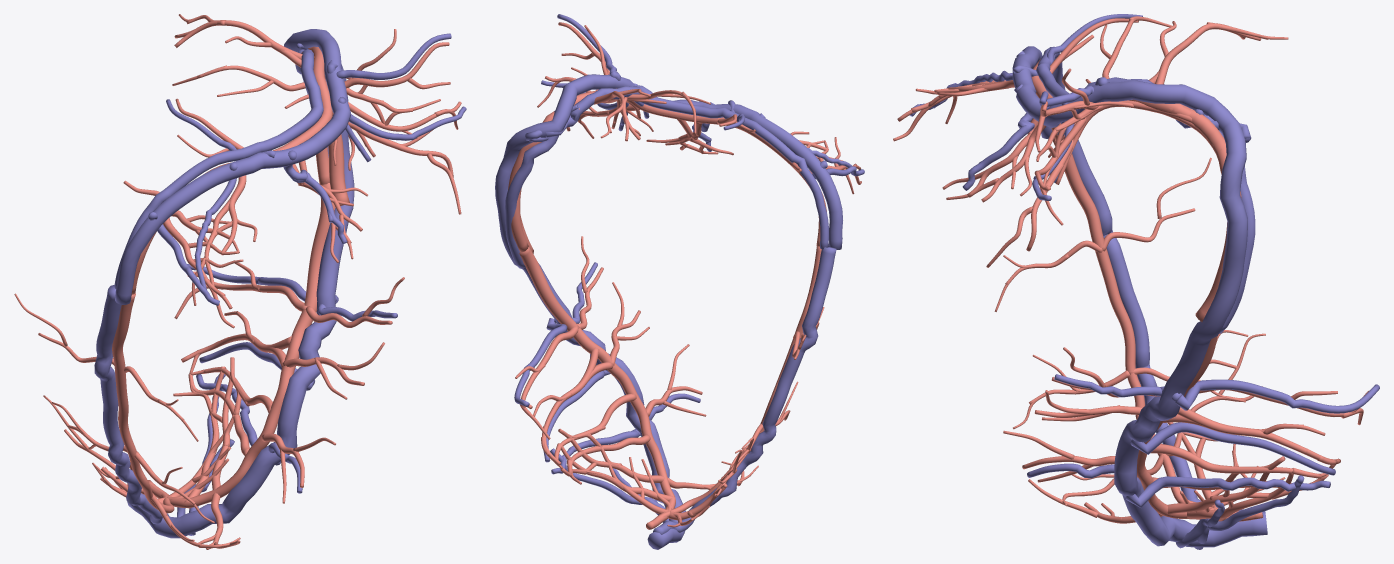
The model's file is vessels_62.glb.
The picture shows the model from 3 angles, left to right: view 1: azimuth 30°, elevation 25°; view 2: azimuth 150°, elevation 25°; view 3: azimuth 270°, elevation 25°; orthographic projection. The views are drawn at different scales.
Visible parts, largest first — view 1: Renderer Node; view 2: Renderer Node; view 3: Renderer Node.
Boxes of the visible parts, x1,y1,x2,y2 form: Renderer Node: (14,14,466,549); Renderer Node: (495,14,864,549); Renderer Node: (893,14,1379,549).
Size of the model in its own units: 95.06 by 123 by 95.57.
